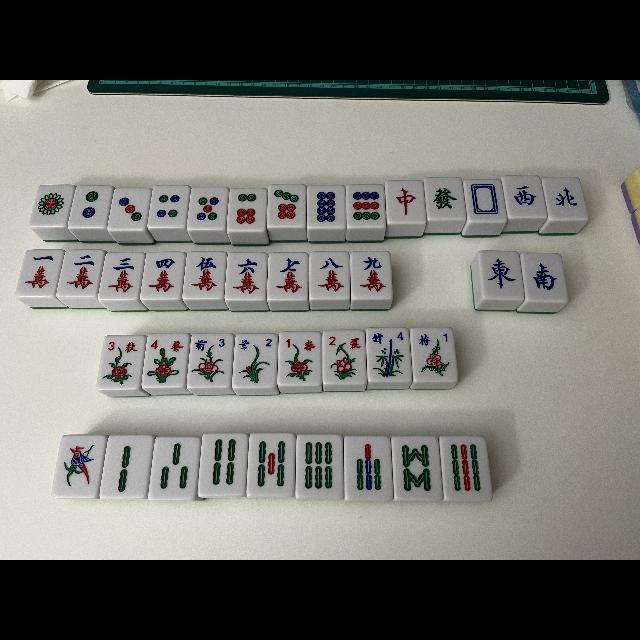b1: (54, 436, 102, 498)
b2: (102, 437, 148, 498)
b3: (150, 437, 200, 499)
b4: (199, 432, 247, 496)
b5: (247, 434, 295, 496)
b6: (296, 436, 342, 498)
b7: (343, 437, 393, 499)
b8: (392, 436, 442, 500)
b9: (441, 438, 493, 500)
c1: (18, 250, 60, 298)
c2: (59, 250, 101, 298)
c3: (101, 253, 142, 299)
c4: (142, 252, 184, 298)
c5: (184, 252, 226, 298)
c6: (226, 253, 266, 299)
c7: (266, 254, 310, 300)
c8: (309, 252, 351, 300)
c9: (351, 252, 393, 300)
d1: (30, 184, 72, 226)
d2: (69, 186, 109, 228)
d3: (110, 190, 148, 230)
d4: (150, 186, 188, 228)
d5: (188, 188, 228, 230)
d6: (228, 190, 268, 232)
d7: (267, 185, 305, 227)
d8: (306, 187, 346, 230)
d9: (346, 186, 386, 228)
dg: (424, 178, 466, 220)
dr: (386, 182, 426, 224)
dw: (464, 180, 508, 222)
f1: (411, 330, 459, 348)
f2: (234, 334, 278, 354)
f3: (190, 336, 232, 352)
f4: (367, 328, 413, 344)
s1: (278, 332, 322, 353)
s2: (323, 331, 367, 352)
s3: (98, 336, 142, 356)
s4: (144, 334, 188, 354)
we: (480, 252, 524, 298)
wn: (543, 180, 587, 220)
ws: (520, 253, 570, 301)
ww: (503, 176, 547, 218)
